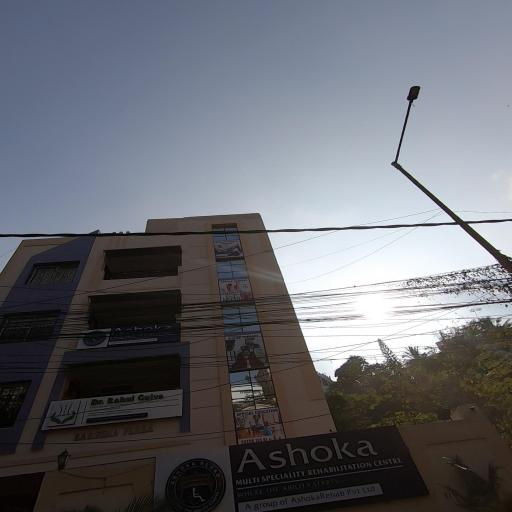off: (356, 60, 457, 208)
